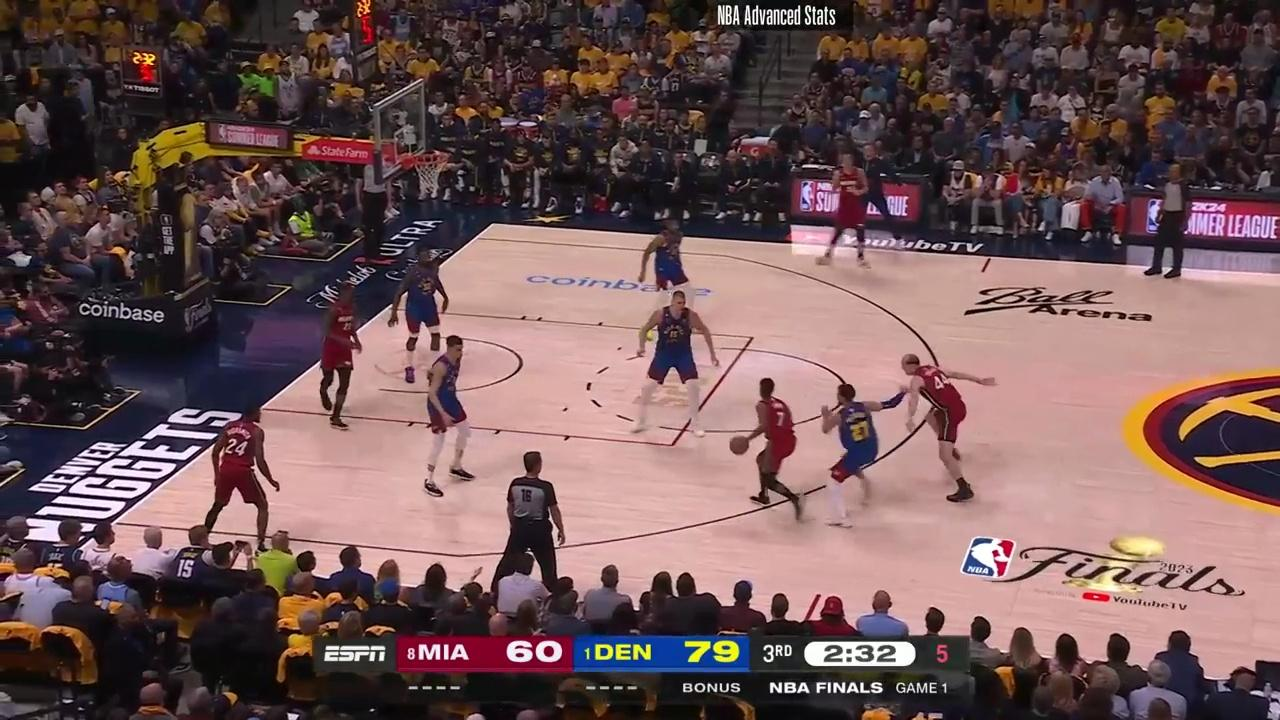Backboard: (373, 78, 422, 184)
Ball: (727, 434, 750, 455)
Basket: (409, 151, 447, 200)
Person: (895, 347, 985, 510), (201, 405, 282, 547), (820, 375, 893, 530), (413, 334, 485, 491), (635, 287, 709, 436), (746, 366, 808, 531), (313, 292, 364, 434), (818, 151, 876, 266), (395, 265, 445, 382), (639, 217, 701, 301)
Referee: (500, 451, 574, 586), (1147, 164, 1195, 280), (355, 166, 396, 266)
Shot Clock: (121, 48, 164, 114), (346, 0, 381, 72)
